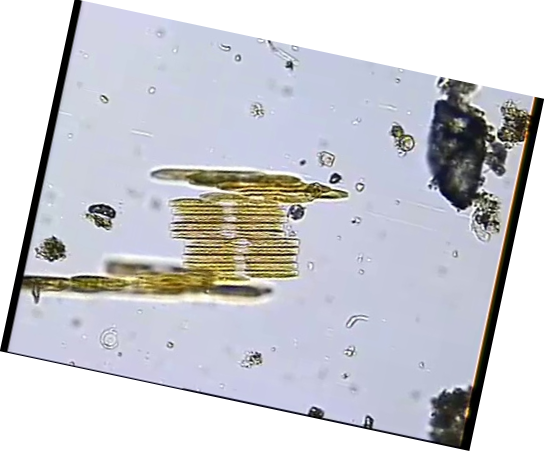Bacillaria: (186, 255, 295, 262), (186, 246, 295, 253), (188, 238, 297, 245), (173, 230, 282, 237), (174, 221, 283, 228), (175, 214, 284, 221), (173, 206, 282, 213), (171, 197, 280, 204)
